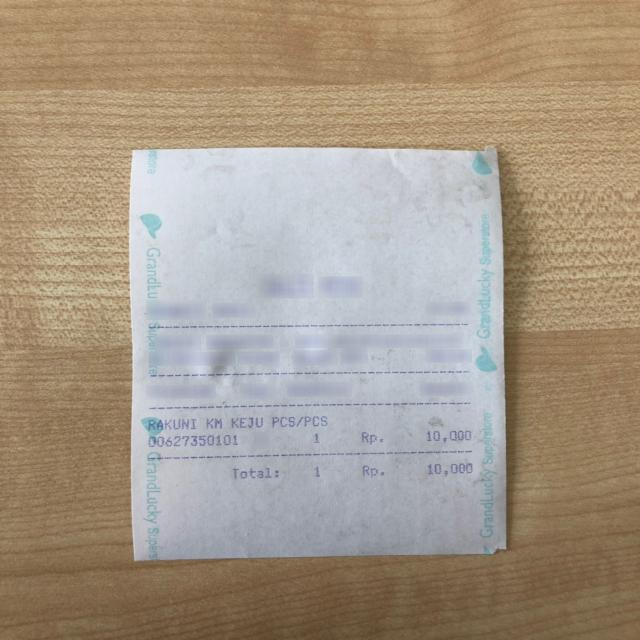kertas: (128, 146, 507, 560)
